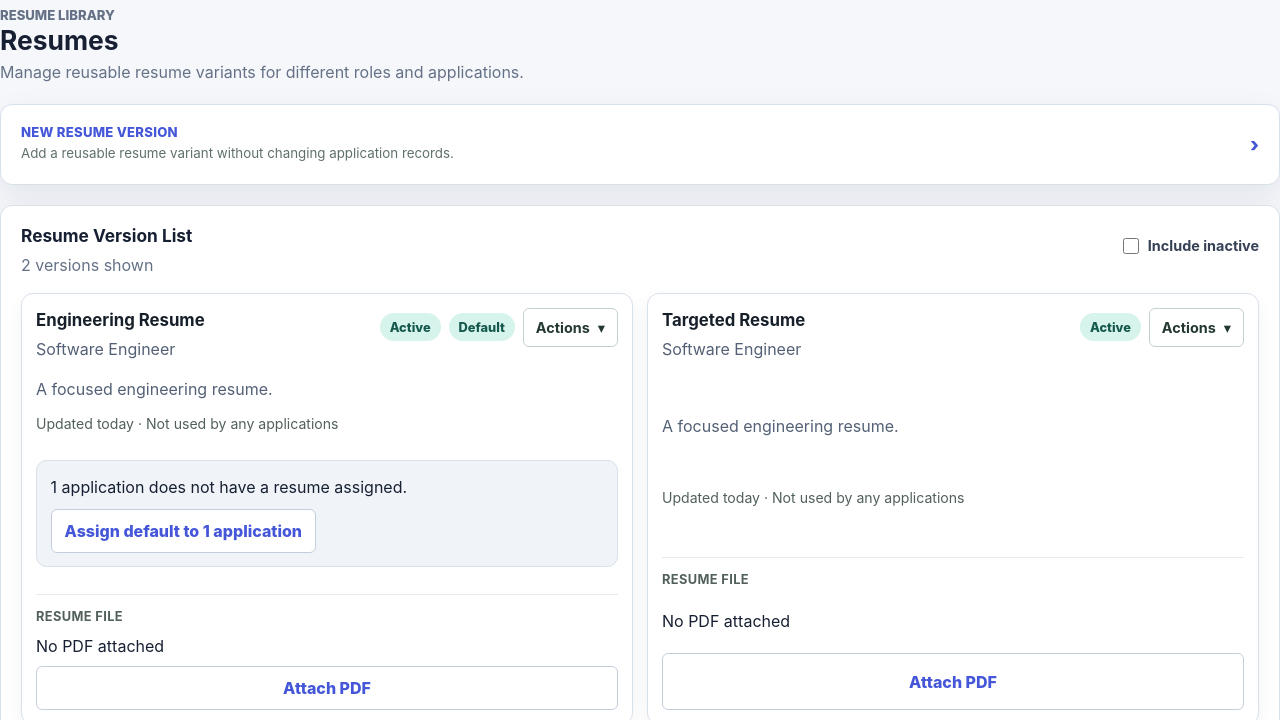
Test: ResumeVersionsPage library experience › shows default controls and a reviewed unassigned callout
Click the button "Assign default to 1 application" at (183, 530), box x1=51 y1=508 x2=316 y2=552
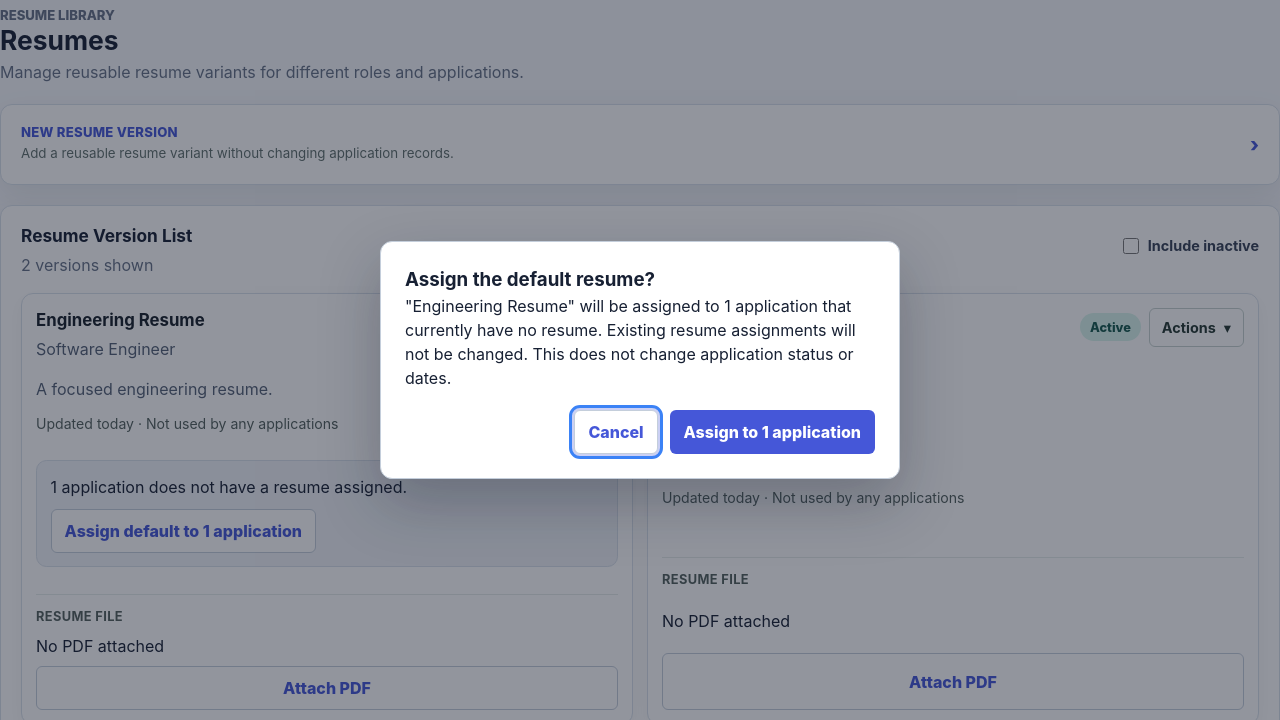
Now the dialog shows "Existing resume assignments will not be changed.", box x1=405 y1=296 x2=856 y2=388
